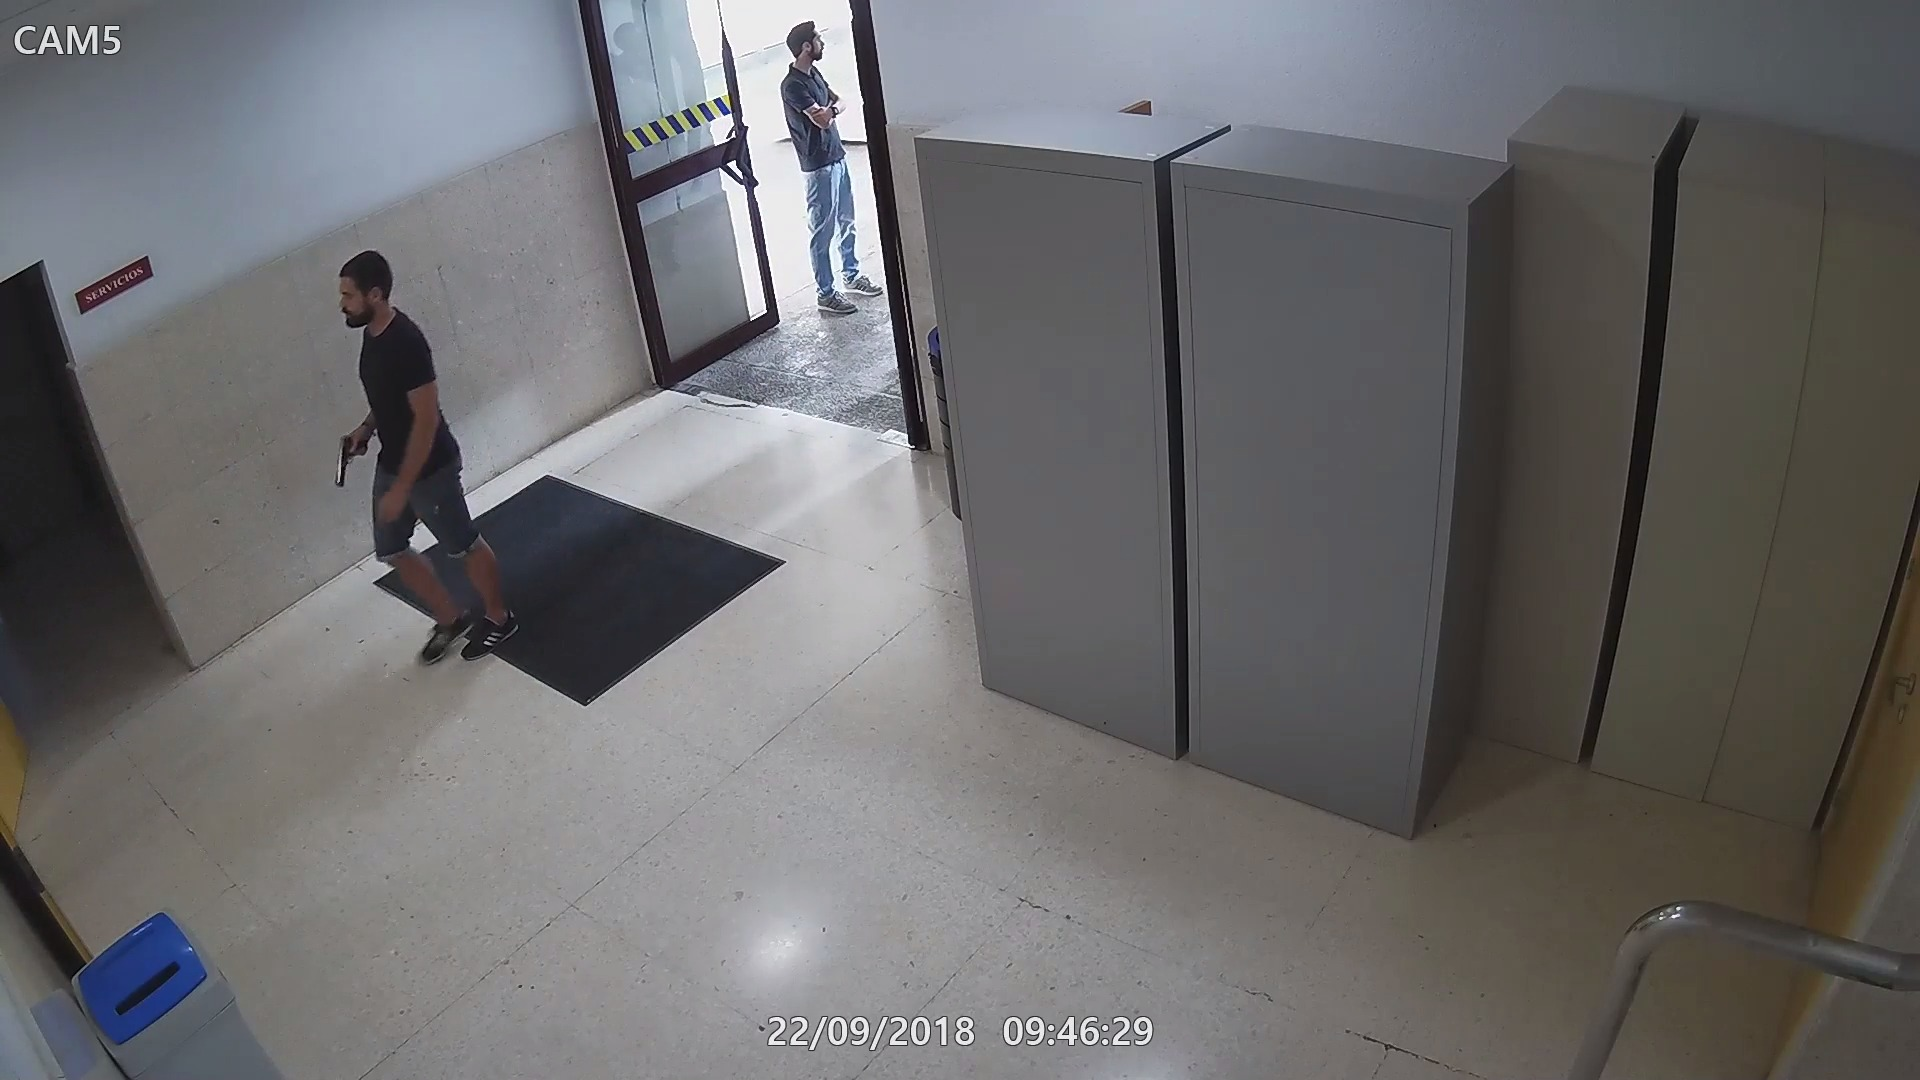Handgun: (334, 433, 371, 491)
